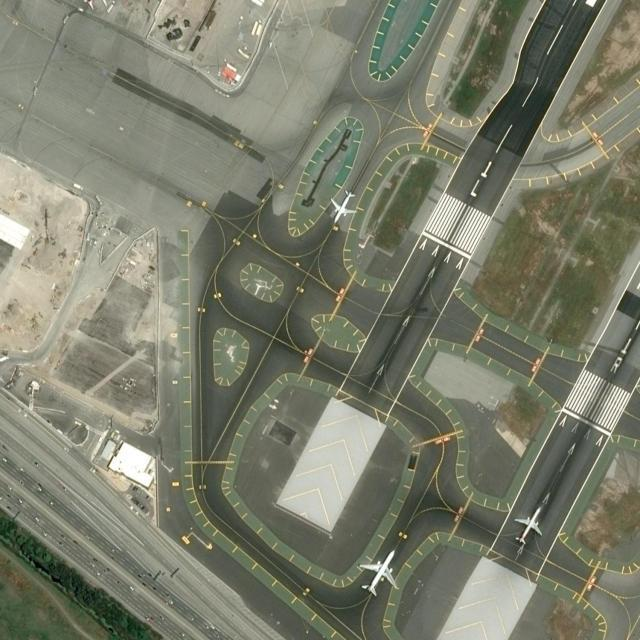Aircraft: (357, 551, 401, 594), (512, 504, 543, 546)
